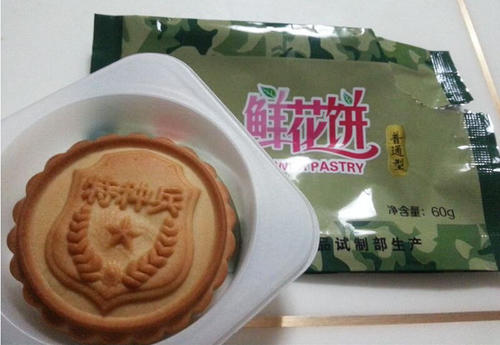MoonCake: (5, 131, 237, 345)
